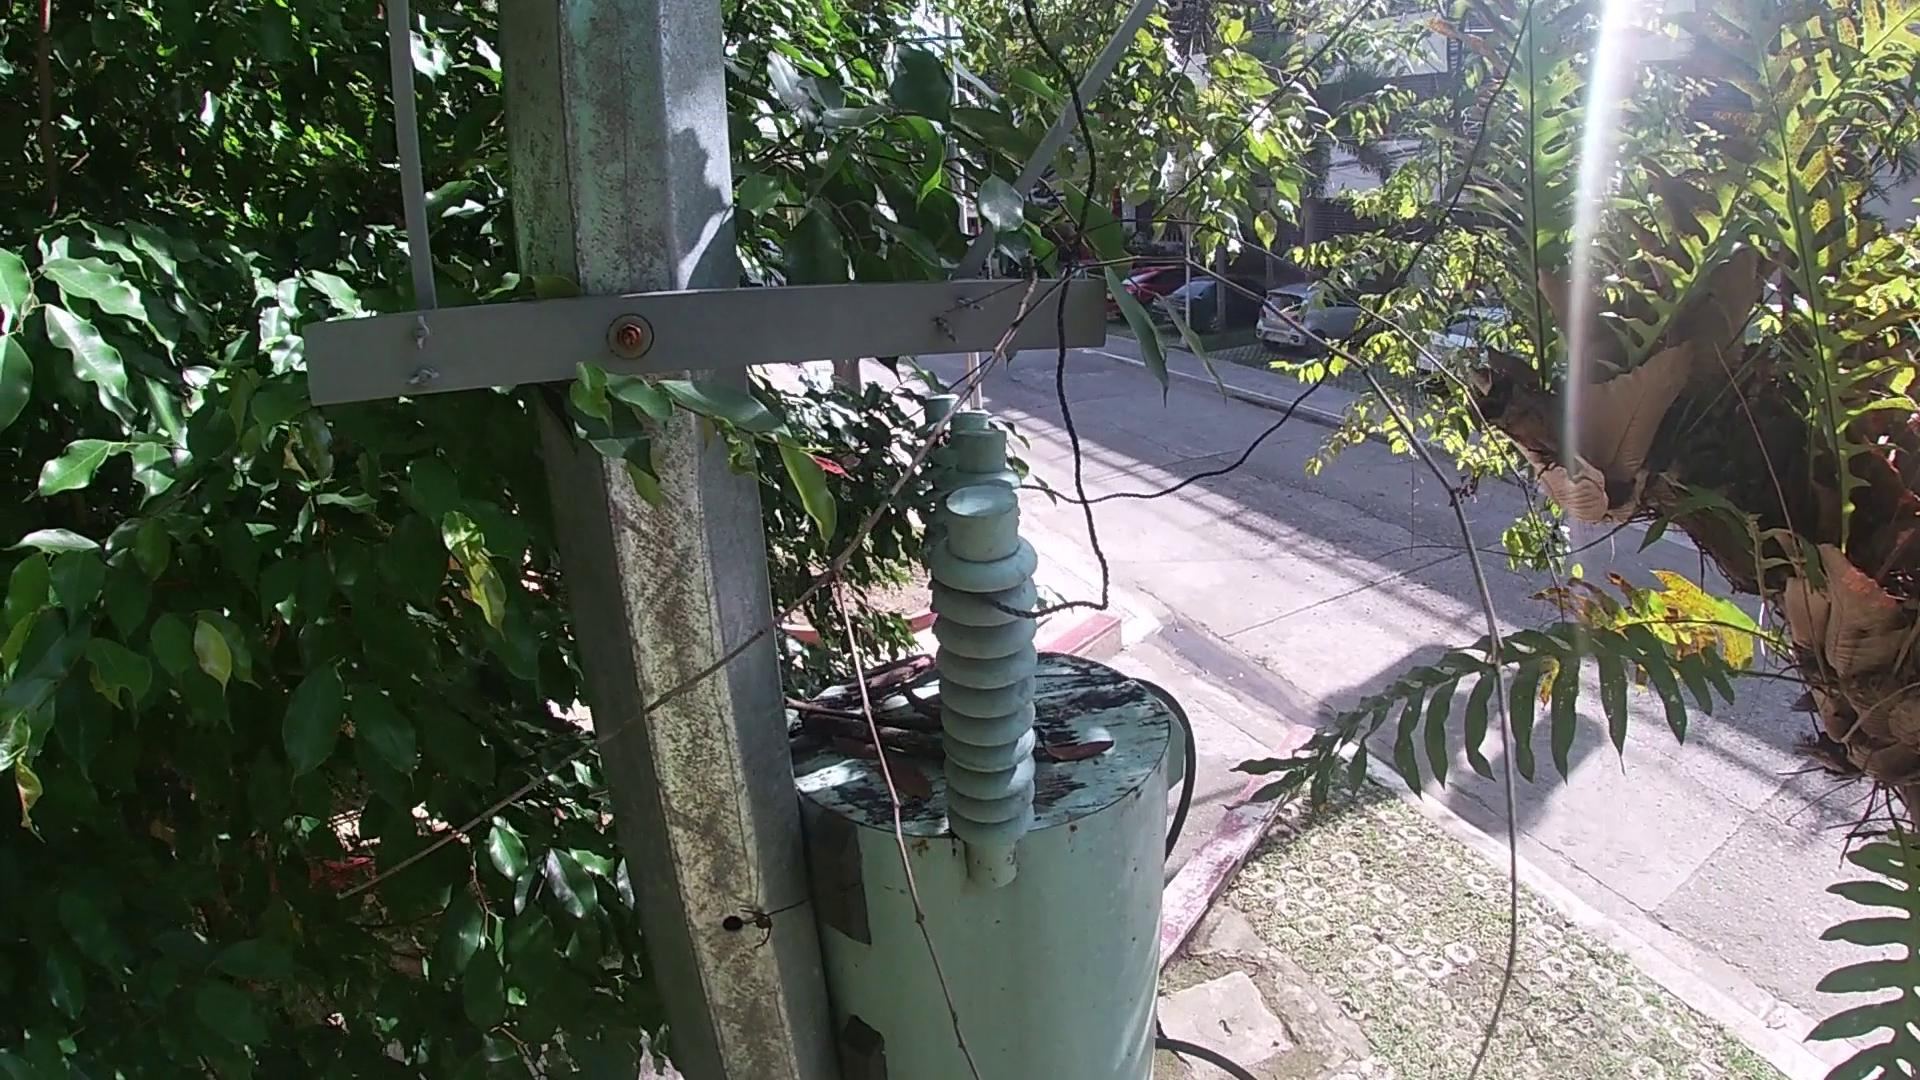leaf: (860, 753, 939, 808), (1039, 733, 1117, 767), (825, 732, 887, 762)
tree branch: (324, 204, 1543, 1077), (791, 704, 948, 761), (843, 649, 940, 709)
